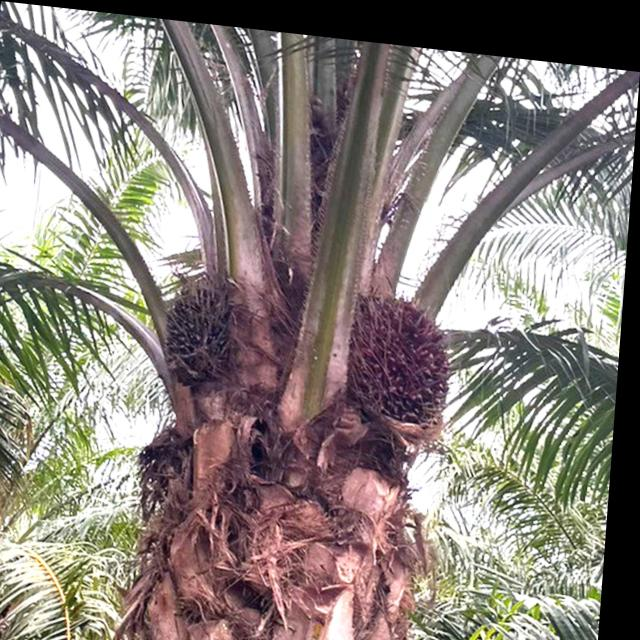ripe: (336, 269, 471, 432)
